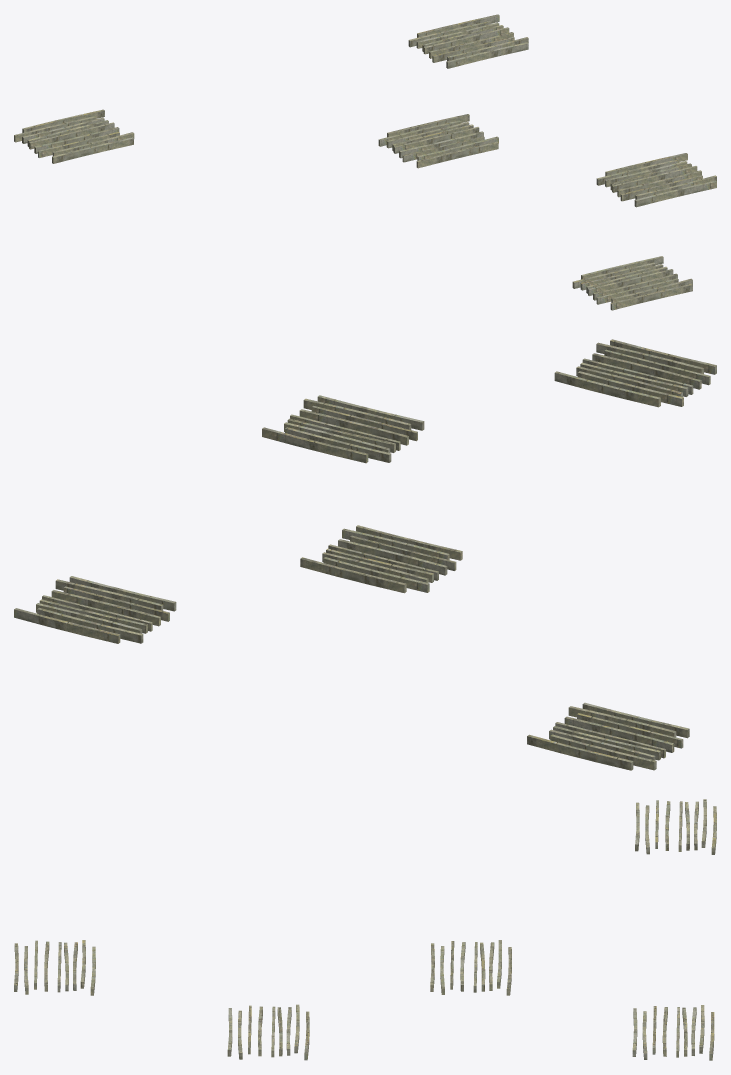
Rendered from SM_LDFest_04_SHADOW.003.fbx.
3 views of the same model, one above another, from view 1: azimuth 30°, elevation 25°; view 2: azimuth 150°, elevation 25°; view 3: azimuth 270°, elevation 25° (orthographic). The views are drawn at different scales.
Visible parts, largest first — view 1: SM_LDFest_04_SHADOW.003; view 2: SM_LDFest_04_SHADOW.003; view 3: SM_LDFest_04_SHADOW.003.
Part boxes in pixels (x1,y1,x2,y2): SM_LDFest_04_SHADOW.003: [14, 14, 716, 310]; SM_LDFest_04_SHADOW.003: [14, 339, 716, 770]; SM_LDFest_04_SHADOW.003: [14, 799, 716, 1060].
Bounding box in the file's own units: 2175 × 26.68 × 2537.
